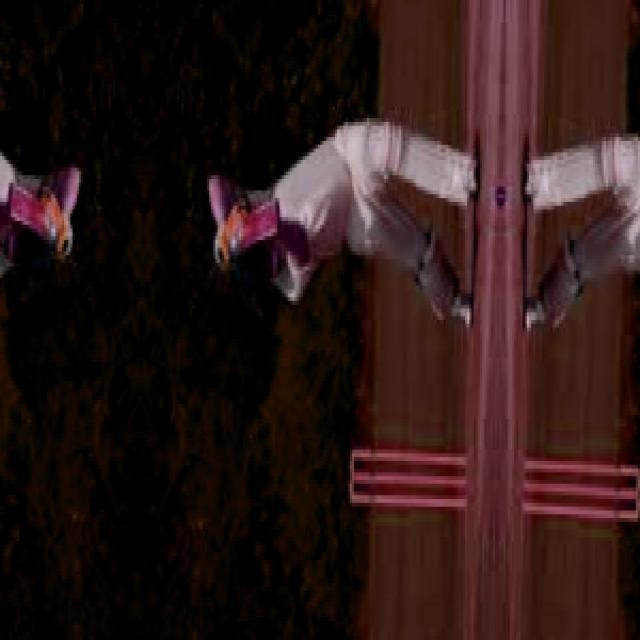bat: (218, 199, 284, 254)
toe: (266, 199, 281, 235)
